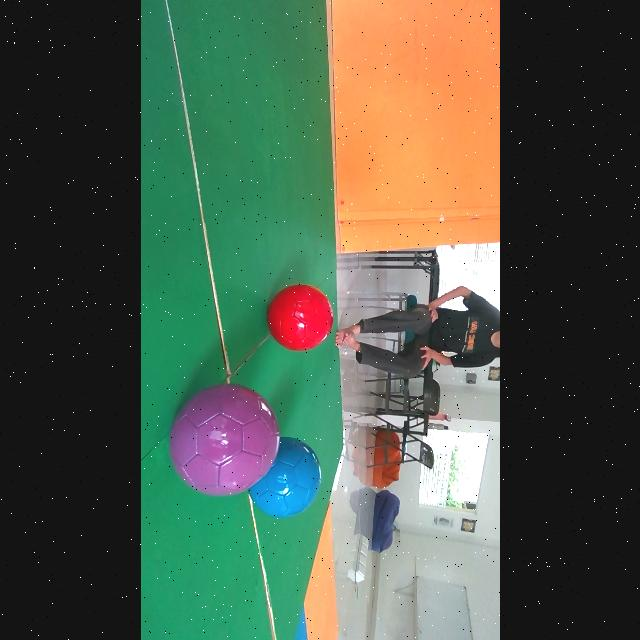B: (249, 436, 321, 518)
P: (169, 383, 280, 496)
R: (267, 285, 334, 351)
